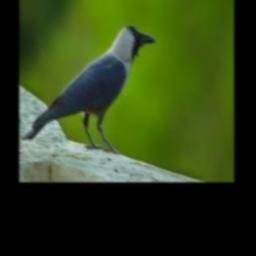Crow: (23, 26, 156, 152)
